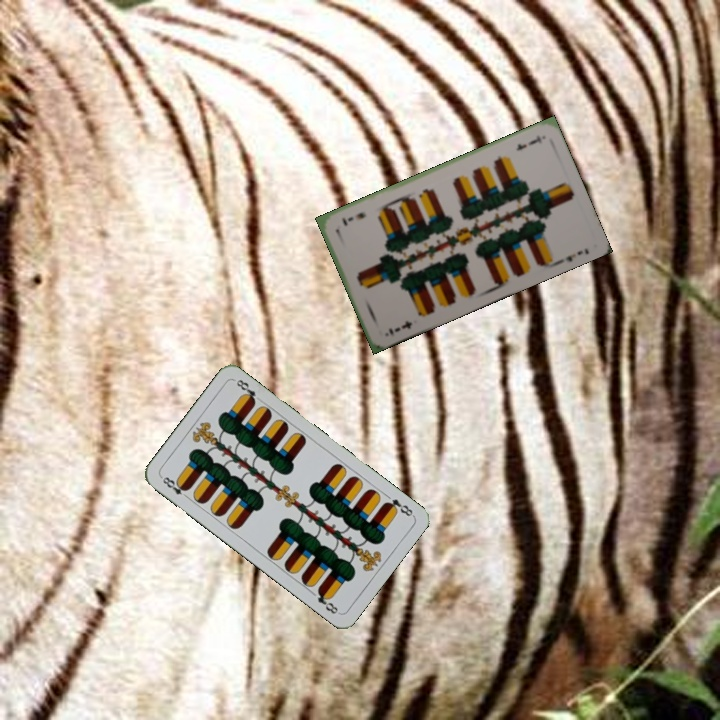E7: (512, 131, 544, 153), (384, 316, 415, 338)
E8: (157, 472, 192, 502), (380, 494, 416, 519)
